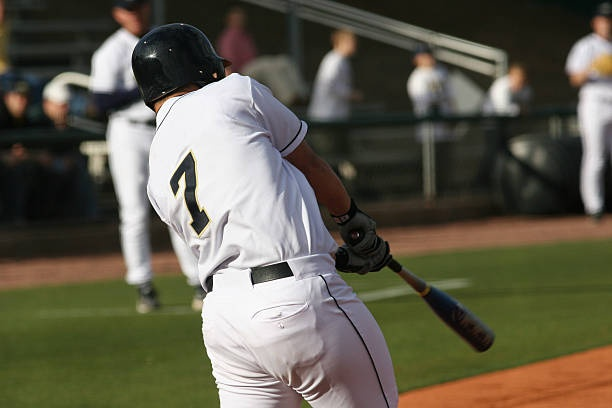bita: (381, 250, 490, 341)
